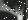person: (1, 1, 27, 20)
